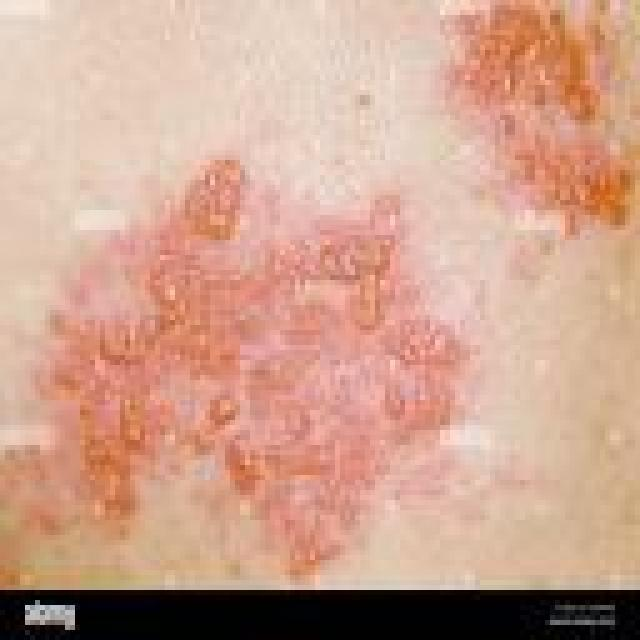Shingles: (42, 153, 462, 566), (436, 0, 634, 233)
